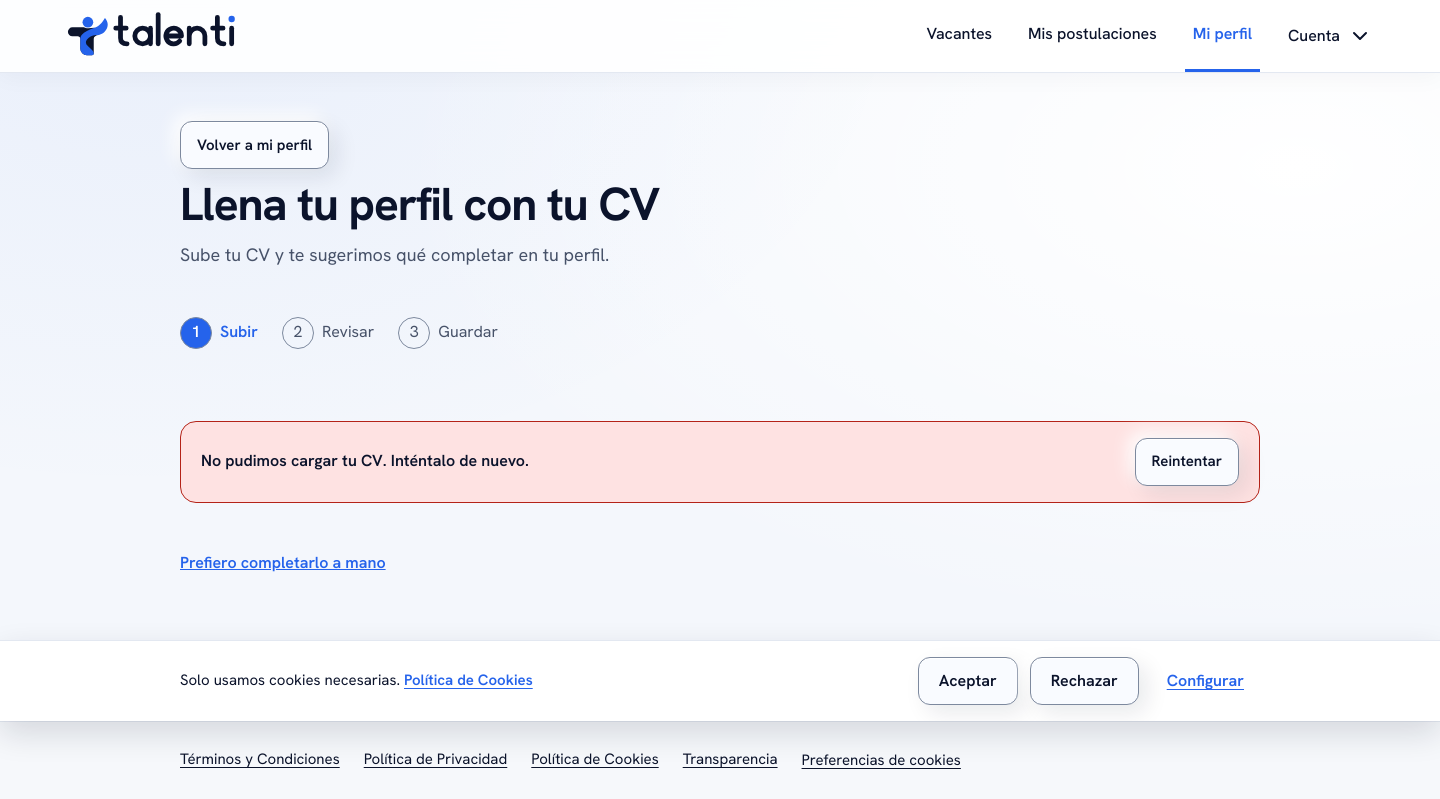
Test: Entry from /perfil (009-19, 009-36) › 009-20: a failed state loads with an alert and "Reintentar" asks again
Expected: the heading "Llena tu perfil con tu CV" is shown, [180,181,659,229]
Expected: the message shows "No pudimos cargar tu CV. Inténtalo de nuevo.", [201,450,529,471]
Click the button "Reintentar".
click(1187, 462)  # box [1134,438,1239,486]
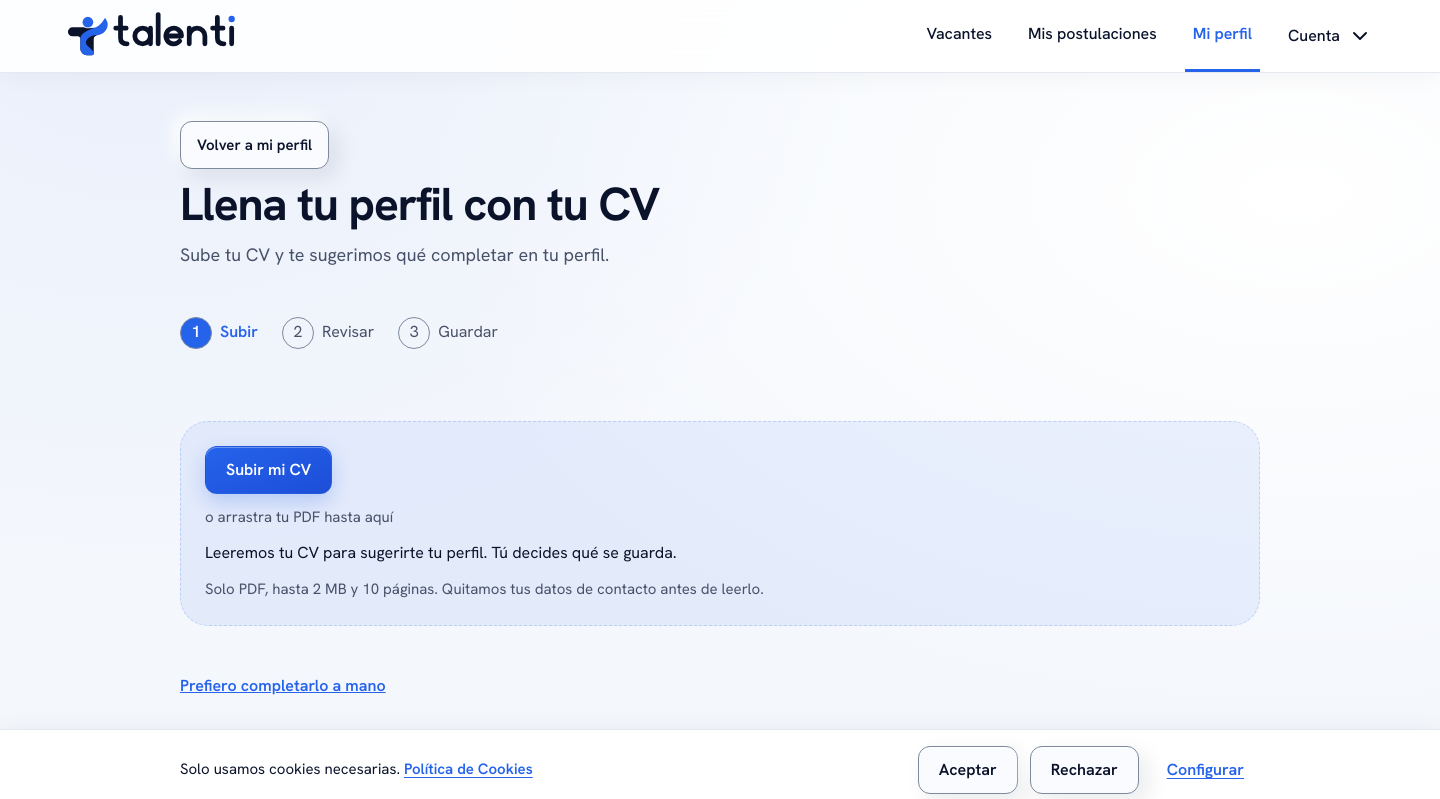
Expected: the button "Subir mi CV" is shown, [205,446,332,494]
